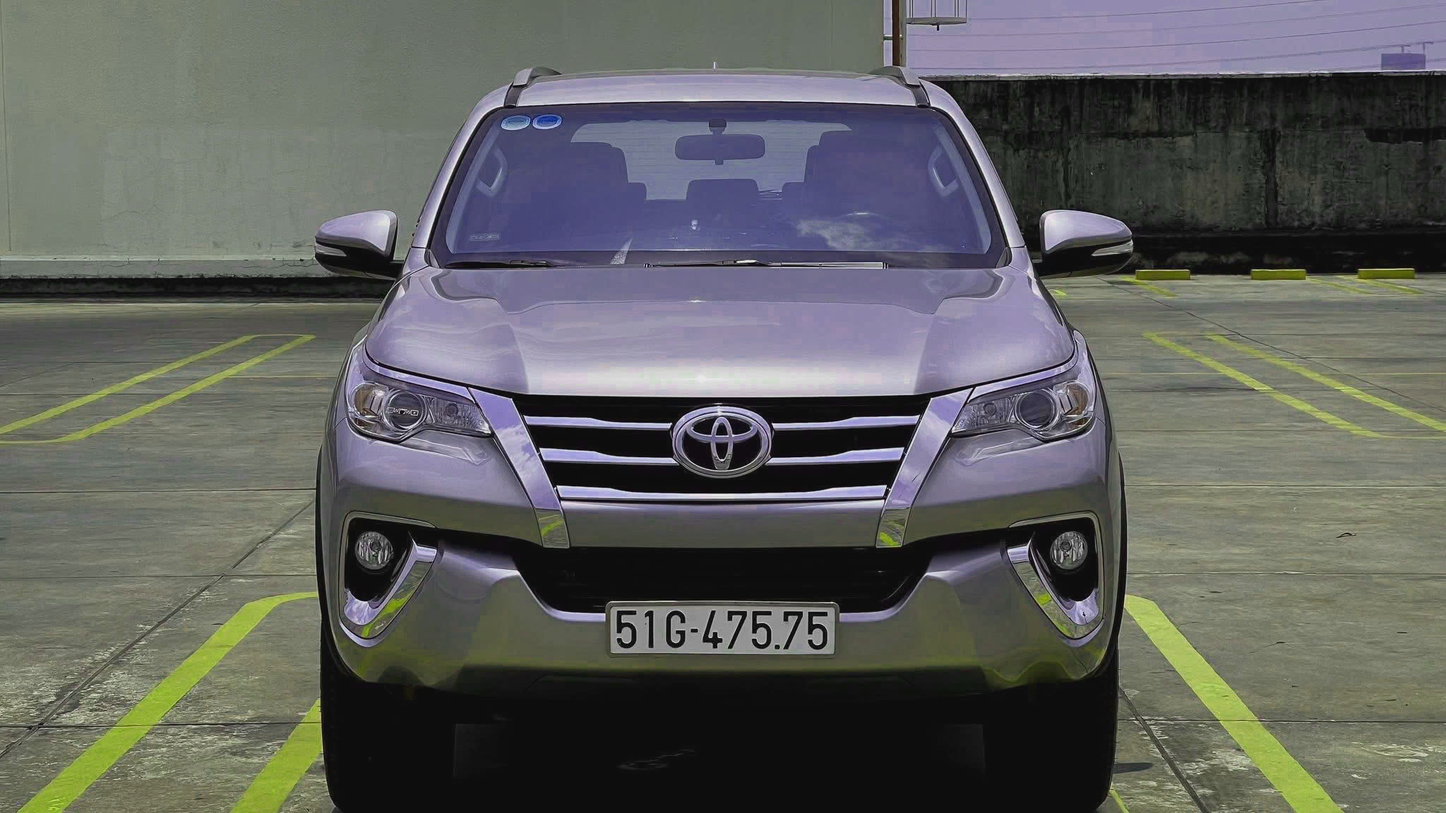Bien-so: (613, 605, 835, 652)
